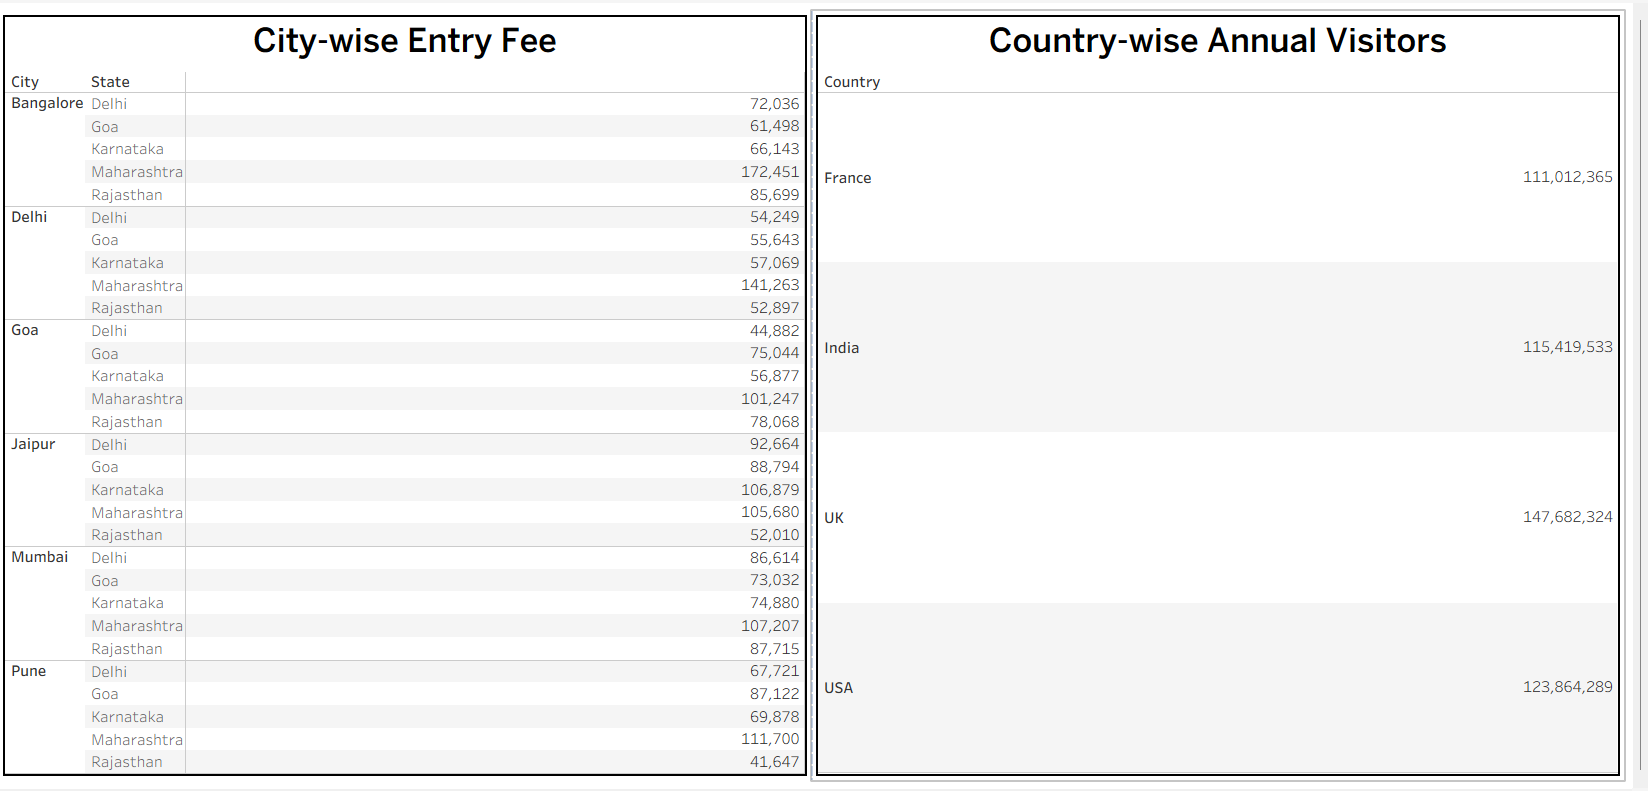

This screenshot's page, from the dashboard's own definition file:
{"tool":"tableau","page":{"name":"Dashboard 1","canvas":[1000,1000],"units":"permille","ordinal":0},"visuals":[{"type":"worksheet","title":"Sheet 1","mark":"Automatic","rows":["City","State"],"box":[4.9,10.2,495.1,979.6]},{"type":"worksheet","title":"Sheet 2","mark":"Automatic","rows":["Country"],"box":[500,10.2,495.1,979.6]}]}

Visuals, with their boxes on the dashboard's canvas, which has no fixed pixel size, in thousandths of its width and height (x1, y1, x2, y2). These are canvas units, not pixel positions in the 1648x791 screenshot, which may show the page scaled, cropped or inside an application window:
"Sheet 1" worksheet: l=5, t=10, r=500, b=990
"Sheet 2" worksheet: l=500, t=10, r=995, b=990
